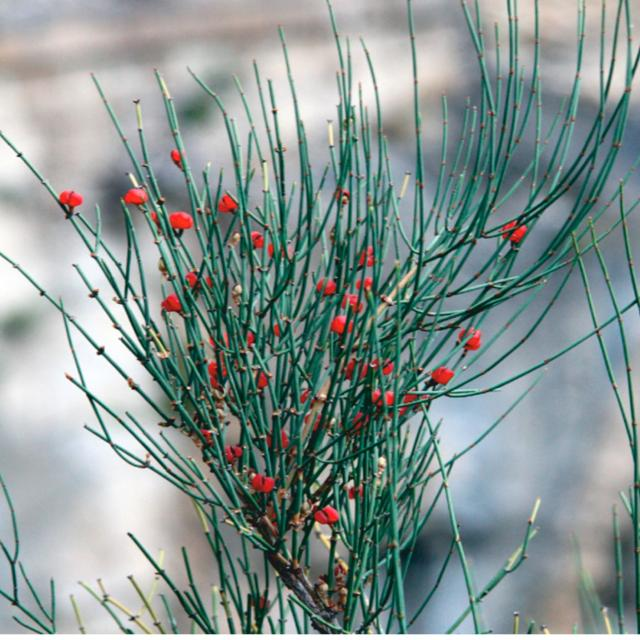Somavalli: (252, 146, 633, 454), (179, 325, 503, 603), (58, 155, 271, 400)
